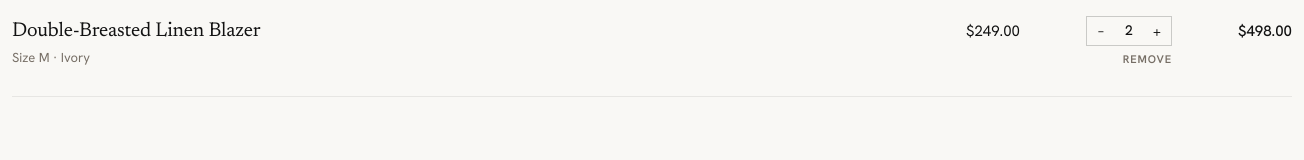
Test: CartLineRow › shows error message when request fails
Click the button with test id "cart-line-inc". click: x=1157, y=31
box: [1143, 17, 1171, 45]
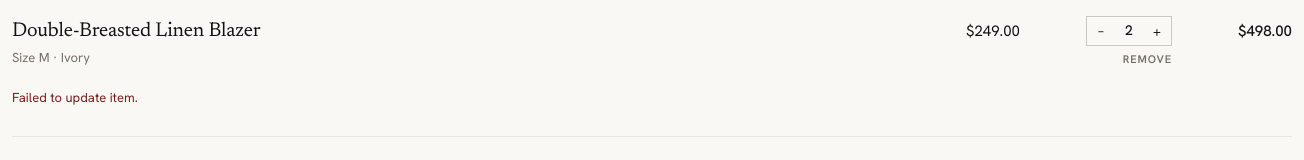
Expected: the message with test id "cart-line-error" reads "Failed to update item.", [12, 89, 138, 106]
